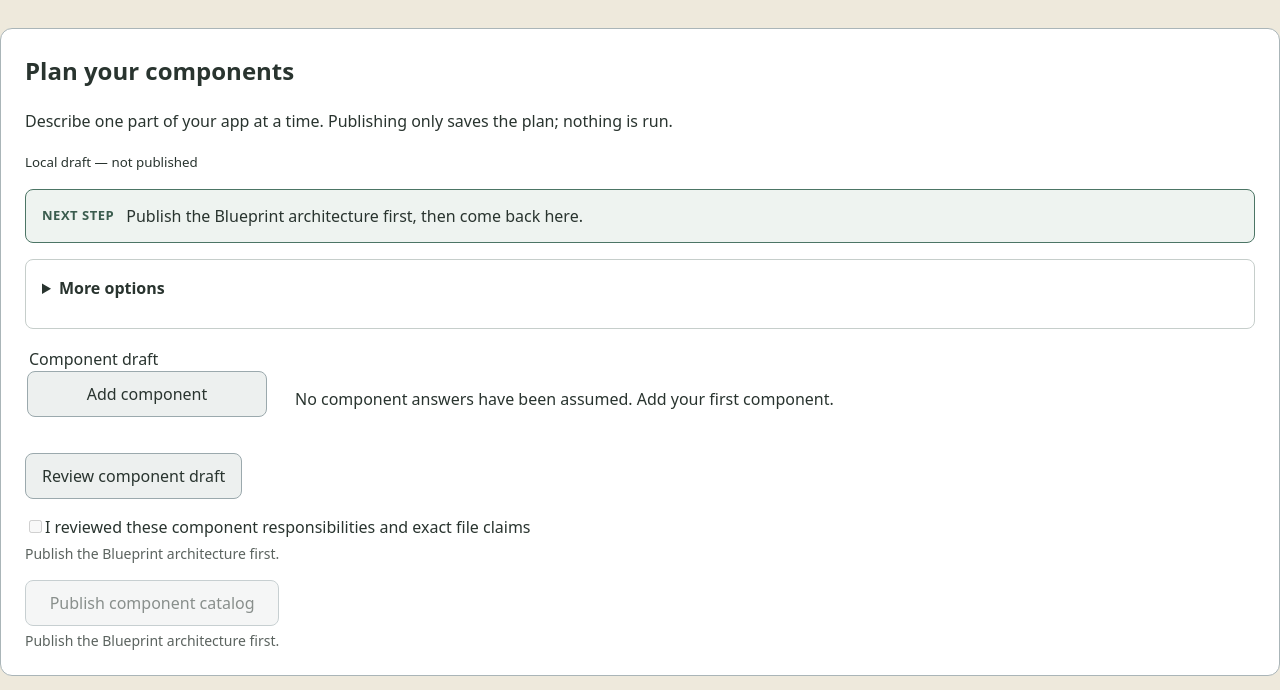
Test: form labels read as words and one-line answers use one-line inputs
This screenshot has width=1280, height=690.
Click the button "Add component". click: x=147, y=394
box: [27,371,267,417]
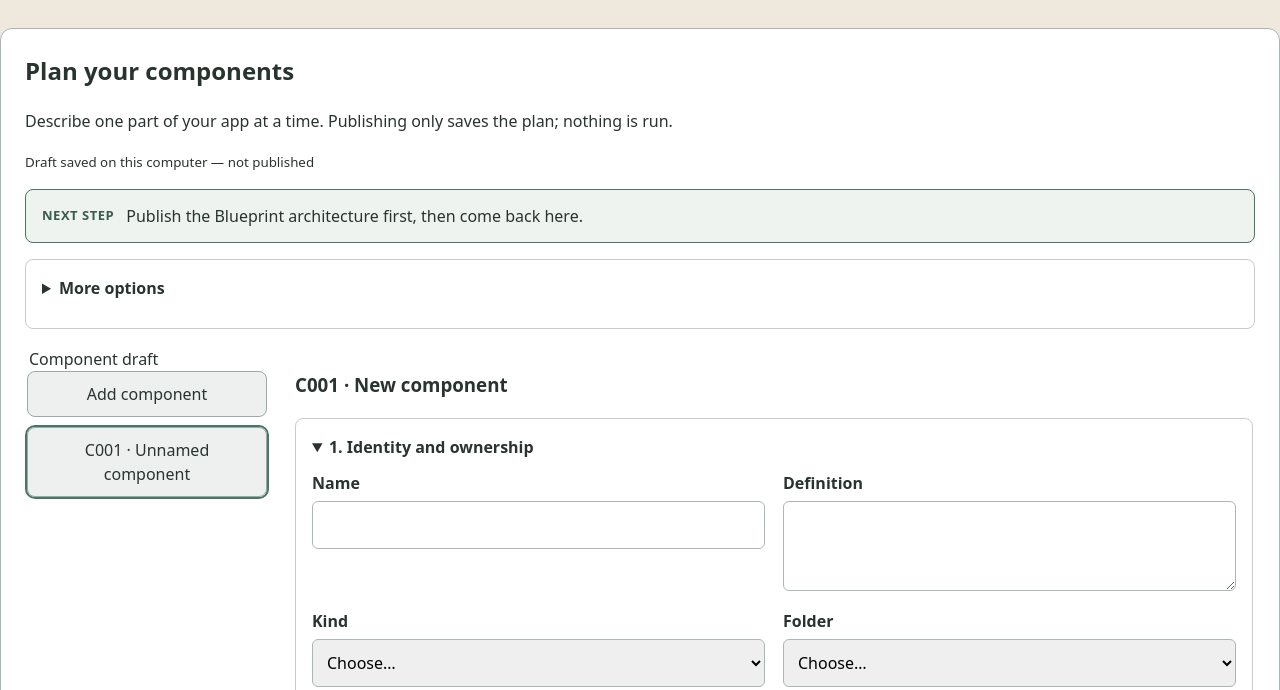
Type "First part" into the field labelled "Name". click: x=538, y=525
box: [312,501,765,549]
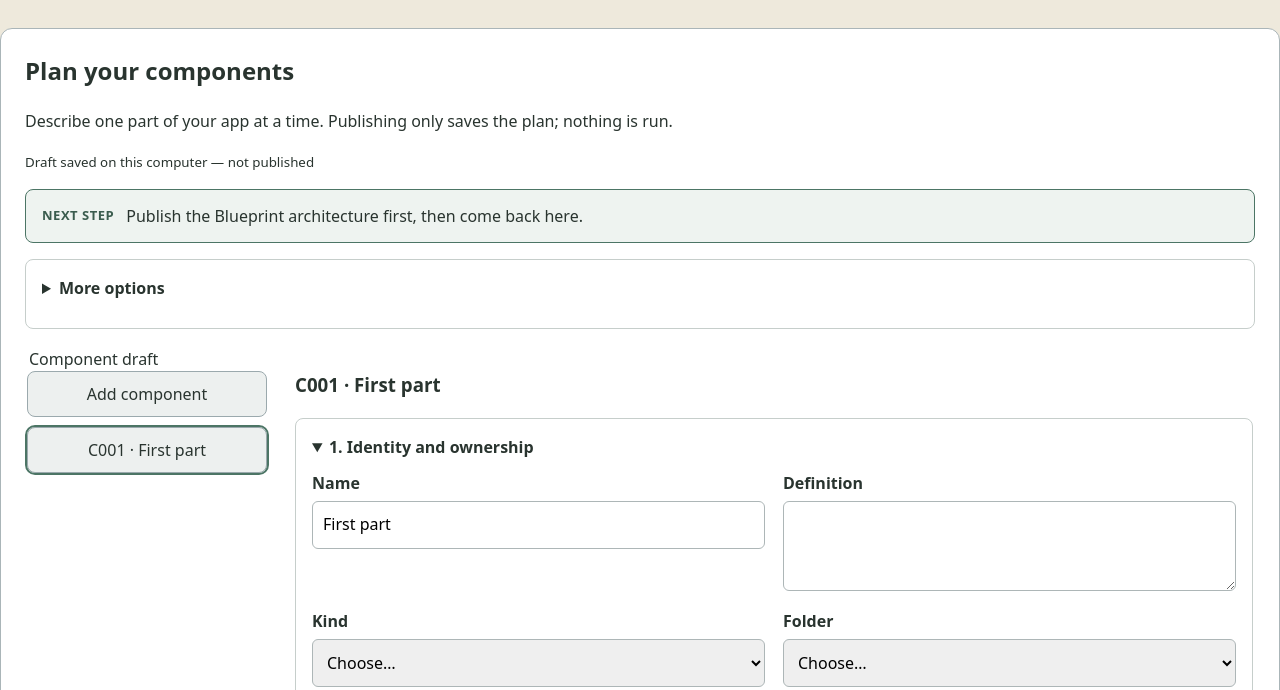
Click the button "Add component". click: x=147, y=394
box: [27,371,267,417]
(page scrolled)
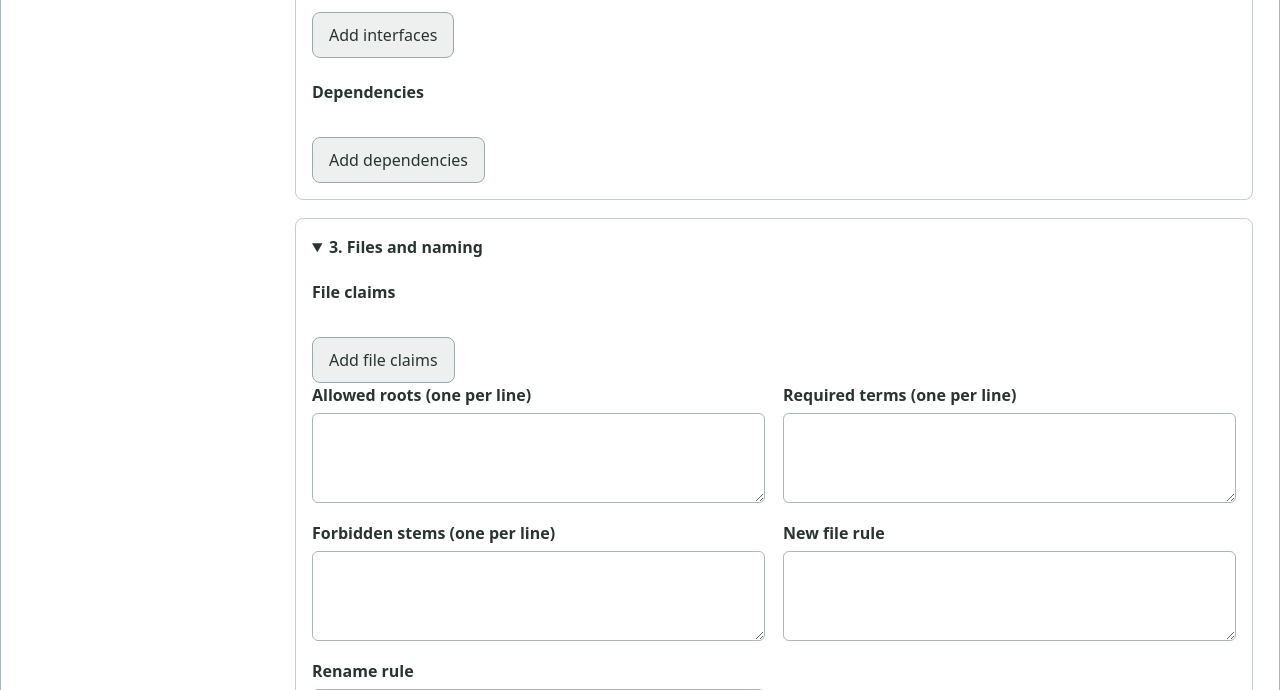
Result: the button "Add file claims" is shown at [312,337,455,383]
